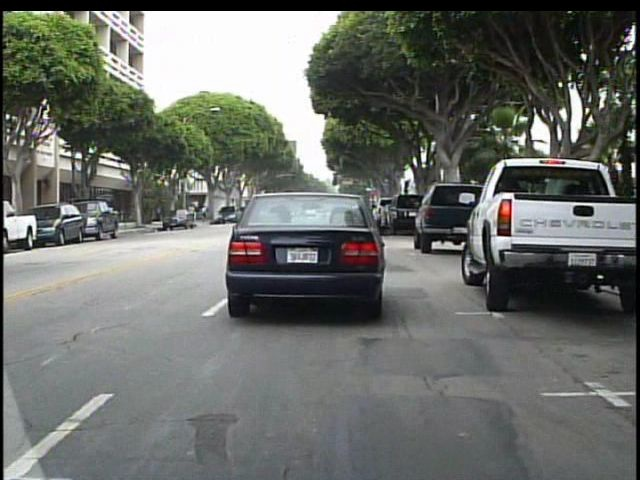person: (186, 202, 198, 227), (200, 203, 212, 227)
